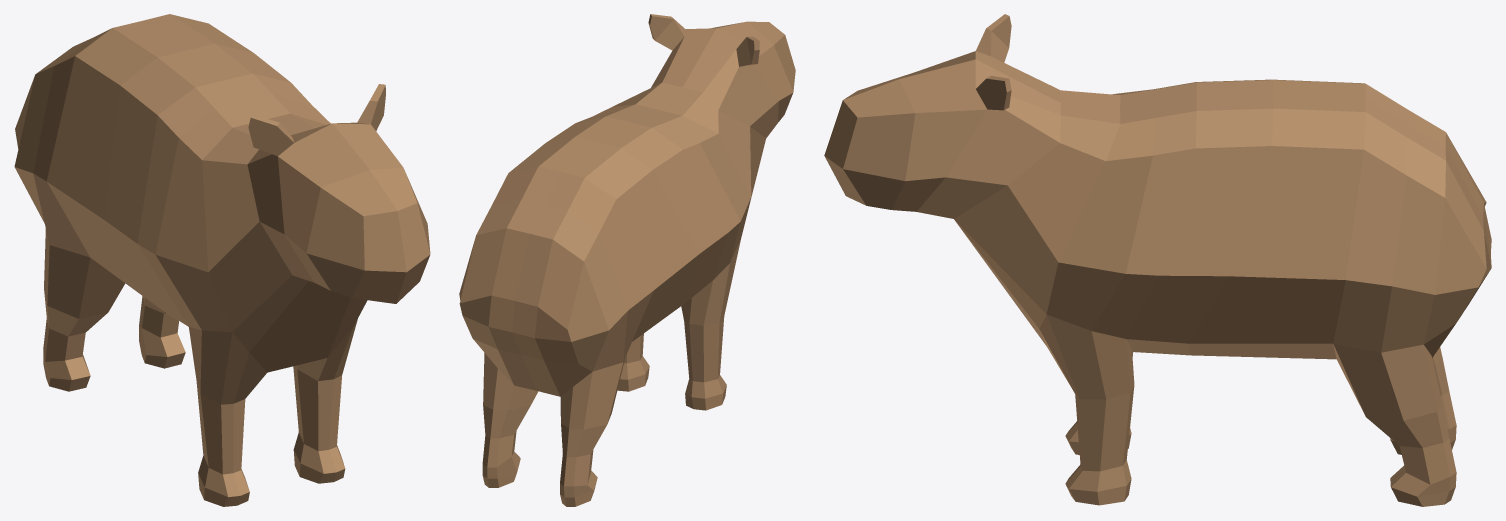
The model's file is capybara.gltf.
3 views of the same model, side by side, from view 1: azimuth 30°, elevation 25°; view 2: azimuth 150°, elevation 25°; view 3: azimuth 270°, elevation 25° (orthographic). The views are drawn at different scales.
Parts seen in each view (by area): view 1: Plane; view 2: Plane; view 3: Plane.
Boxes of the visible parts, x1=… form: Plane: x1=14, y1=14, x2=430, y2=506; Plane: x1=459, y1=14, x2=795, y2=506; Plane: x1=824, y1=14, x2=1491, y2=506.
Bounding box in the file's own units: 2.52 × 4.83 × 6.81.
